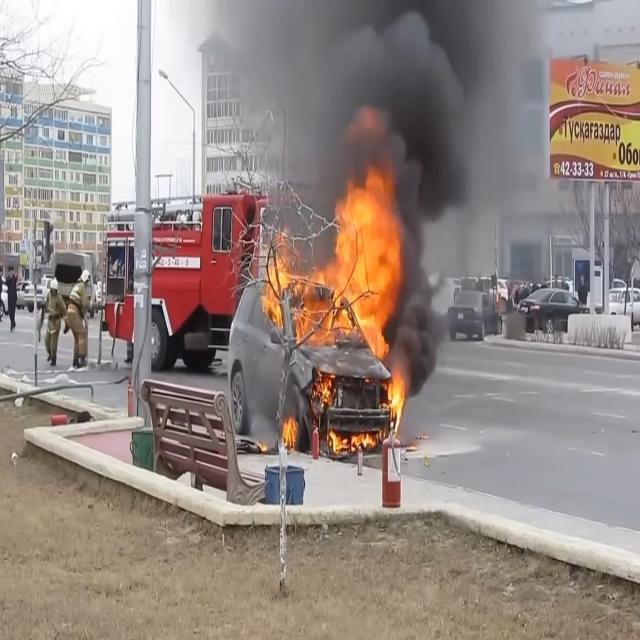fire: (251, 101, 413, 468)
